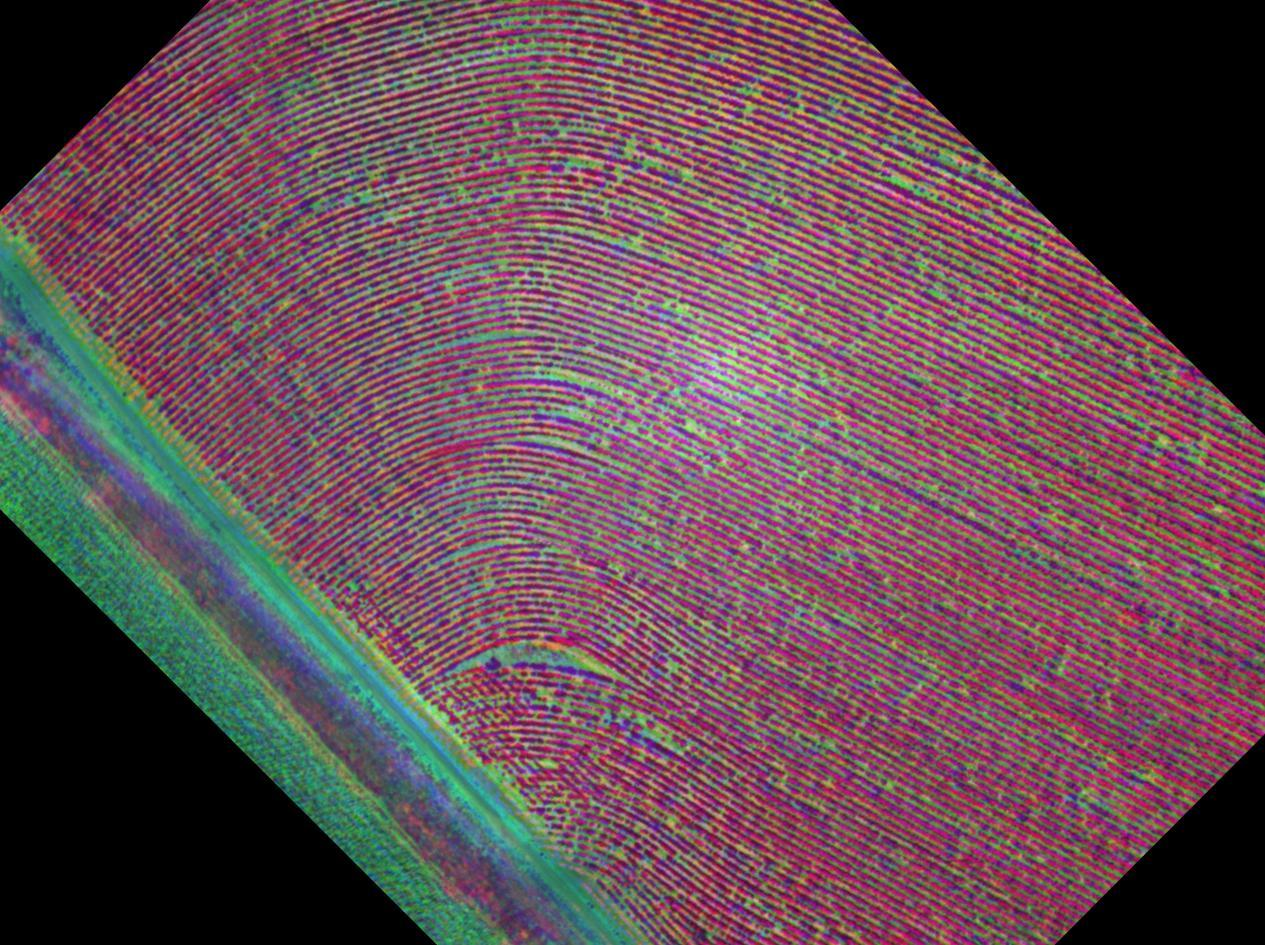dc: (493, 320, 633, 462), (398, 5, 567, 95), (468, 633, 622, 710), (873, 120, 974, 219), (263, 53, 344, 130)
